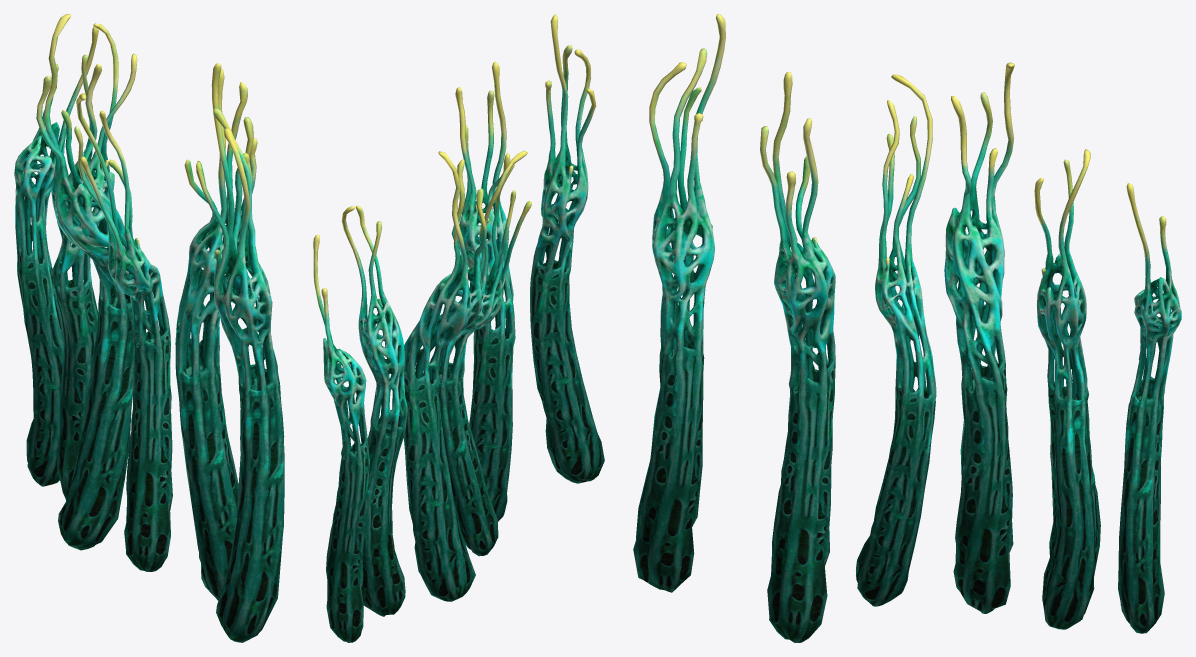
The model's file is frozen river plant 01.fbx.
3 renders of one model, left to right at view 1: azimuth 30°, elevation 25°; view 2: azimuth 150°, elevation 25°; view 3: azimuth 270°, elevation 25°, orthographic. The views are drawn at different scales.
Parts seen in each view (by area): view 1: FrozenRiver_plant_01_a_LOD0, FrozenRiver_plant_01_d_LOD0, FrozenRiver_plant_01_b_LOD0, FrozenRiver_plant_01_c_LOD0, FrozenRiver_plant_01_f_LOD0, FrozenRiver_plant_01_e_LOD0; view 2: FrozenRiver_plant_01_a_LOD0, FrozenRiver_plant_01_d_LOD0, FrozenRiver_plant_01_e_LOD0, FrozenRiver_plant_01_b_LOD0, FrozenRiver_plant_01_f_LOD0, FrozenRiver_plant_01_c_LOD0; view 3: FrozenRiver_plant_01_a_LOD0, FrozenRiver_plant_01_b_LOD0, FrozenRiver_plant_01_d_LOD0, FrozenRiver_plant_01_c_LOD0, FrozenRiver_plant_01_e_LOD0, FrozenRiver_plant_01_f_LOD0.
Part boxes in pixels (x1,y1,x2,y2): FrozenRiver_plant_01_a_LOD0: [196, 63, 284, 642]; FrozenRiver_plant_01_d_LOD0: [36, 14, 134, 550]; FrozenRiver_plant_01_b_LOD0: [175, 68, 257, 600]; FrozenRiver_plant_01_c_LOD0: [74, 93, 172, 571]; FrozenRiver_plant_01_f_LOD0: [14, 26, 98, 486]; FrozenRiver_plant_01_e_LOD0: [52, 23, 137, 500]; FrozenRiver_plant_01_a_LOD0: [530, 14, 604, 483]; FrozenRiver_plant_01_d_LOD0: [403, 151, 486, 601]; FrozenRiver_plant_01_e_LOD0: [341, 205, 407, 616]; FrozenRiver_plant_01_b_LOD0: [455, 61, 515, 521]; FrozenRiver_plant_01_f_LOD0: [313, 234, 369, 642]; FrozenRiver_plant_01_c_LOD0: [438, 150, 531, 556]; FrozenRiver_plant_01_a_LOD0: [633, 14, 725, 592]; FrozenRiver_plant_01_b_LOD0: [760, 72, 835, 642]; FrozenRiver_plant_01_d_LOD0: [944, 62, 1014, 613]; FrozenRiver_plant_01_c_LOD0: [856, 74, 936, 606]; FrozenRiver_plant_01_e_LOD0: [1034, 149, 1100, 629]; FrozenRiver_plant_01_f_LOD0: [1118, 183, 1181, 633].
Bounding box in the file's own units: 70.14 × 291 × 240.
